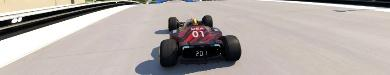Car: (158, 14, 241, 66)
